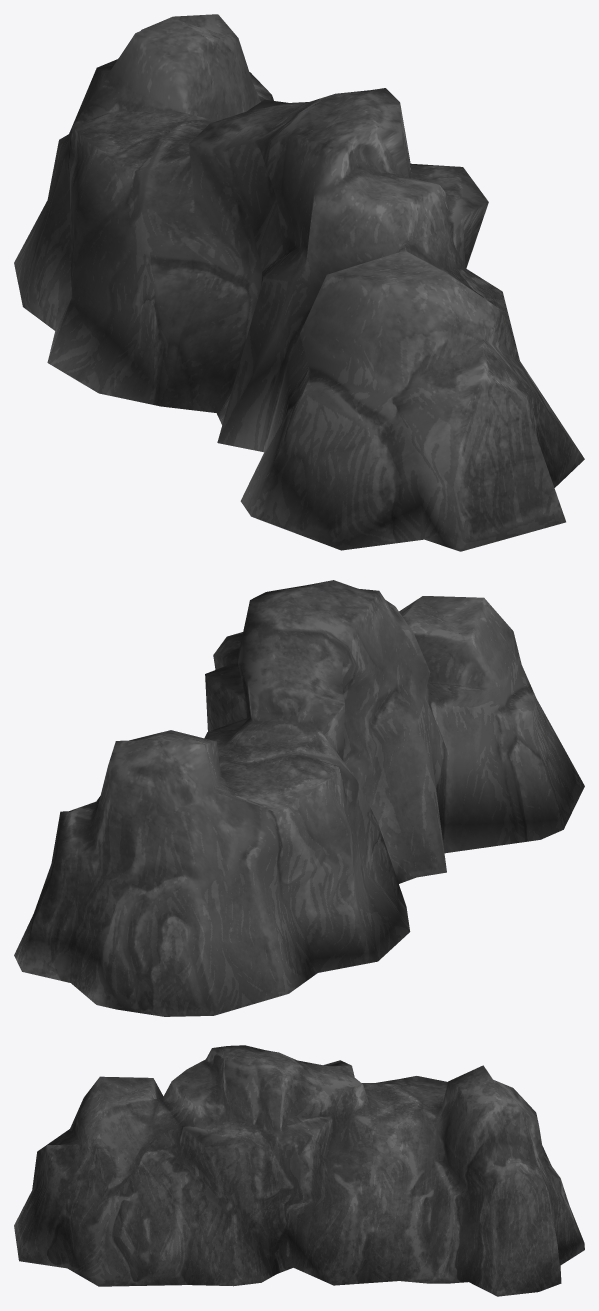
File: stone16.fbx
The picture shows the model from 3 angles, top to bottom: view 1: azimuth 30°, elevation 25°; view 2: azimuth 150°, elevation 25°; view 3: azimuth 270°, elevation 25°; orthographic projection. The views are drawn at different scales.
Visible parts, largest first — view 1: polySurface1; view 2: polySurface1; view 3: polySurface1.
Boxes of the visible parts, box(x1,y1,x2,y2) form: polySurface1: box(14, 14, 584, 551); polySurface1: box(14, 580, 584, 1016); polySurface1: box(14, 1045, 584, 1296).
Size of the model in its own units: 8.65 by 7.11 by 18.89.
Materials: 1 (1 with a texture image).
